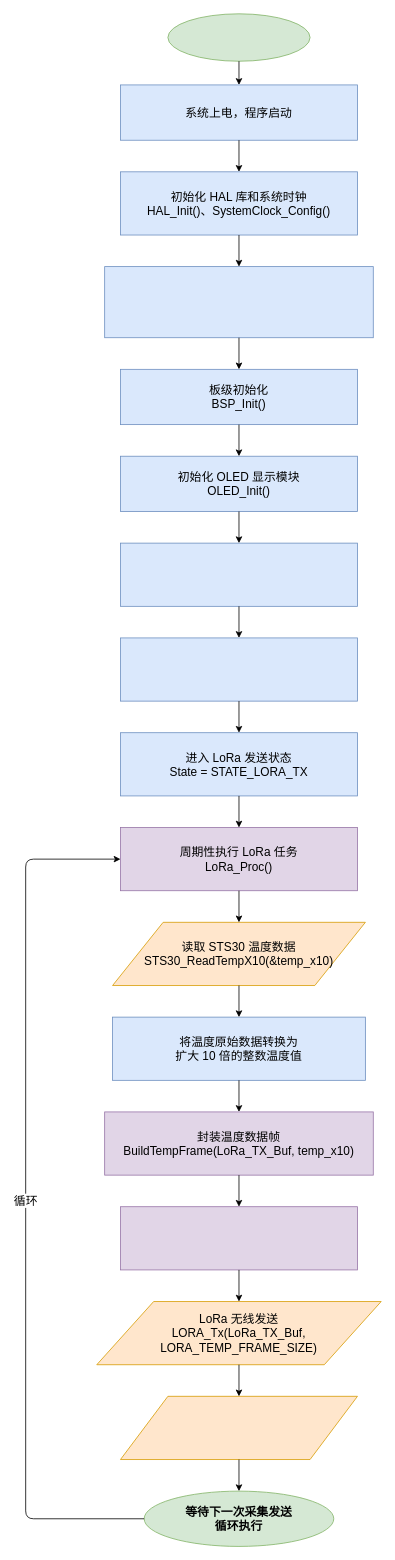
Image size: 395x1560. Some labels were removed from this diagram. The box of each missing label's shape, as (x1, y1, x2, y2) in pixels:
OLED 显示本地发送温度 OLED_Proc()、FormatTempString(): (120, 1396, 357, 1460)
初始化 LoRa 通信模块 BSP_RADIO_Init()、LORA_Init(): (120, 542, 357, 606)
初始化 STS30 温度传感器 STS30_Init(): (120, 637, 357, 701)
初始化基础外设 MX_GPIO_Init()、MX_I2C1_Init()、MX_SUBGHZ_Init() 等: (104, 266, 373, 338)
发送温度数据帧 SendTemperatureFrame(temp_x10): (120, 1206, 357, 1270)
开始: (167, 13, 310, 61)
